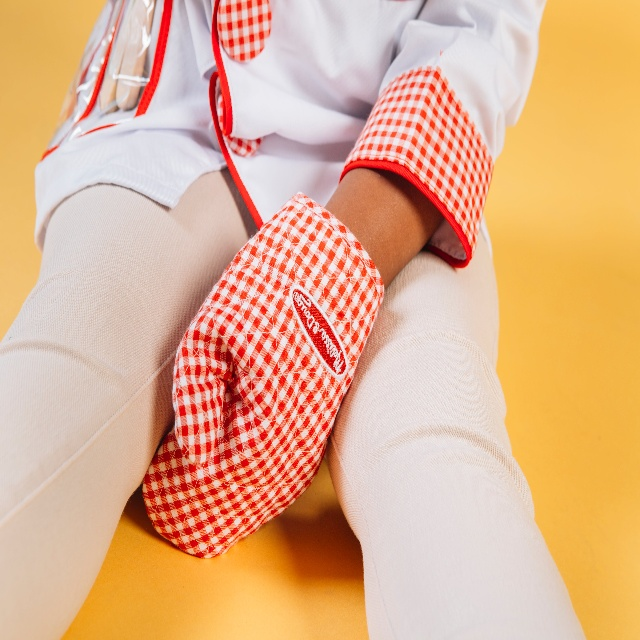Guantes: (142, 188, 385, 560)
